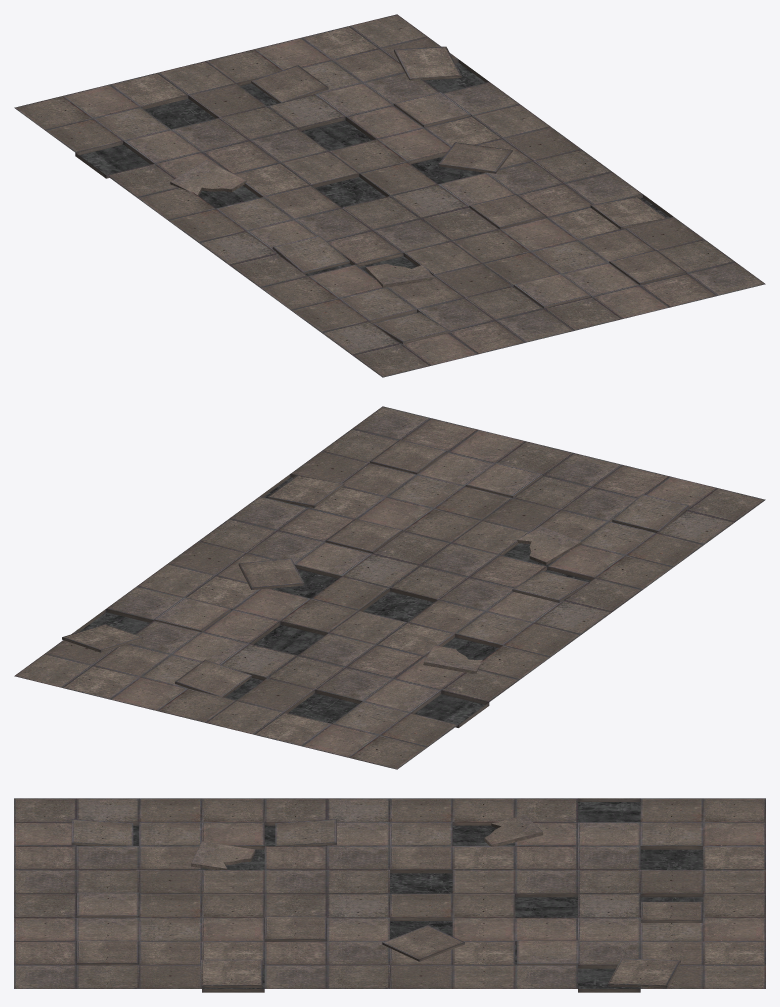
The model's file is #LVL_Floor_C.fbx.
3 renders of one model, top to bottom at view 1: azimuth 30°, elevation 25°; view 2: azimuth 150°, elevation 25°; view 3: azimuth 270°, elevation 25°, orthographic.
Parts seen in each view (by area): view 1: Cube_007; view 2: Cube_007; view 3: Cube_007.
Part boxes in pixels (bbox=[...]): Cube_007: bbox=[14, 14, 765, 377]; Cube_007: bbox=[14, 406, 765, 769]; Cube_007: bbox=[14, 798, 765, 992].
Bounding box in the file's own units: 12.02 × 0.3443 × 20.
